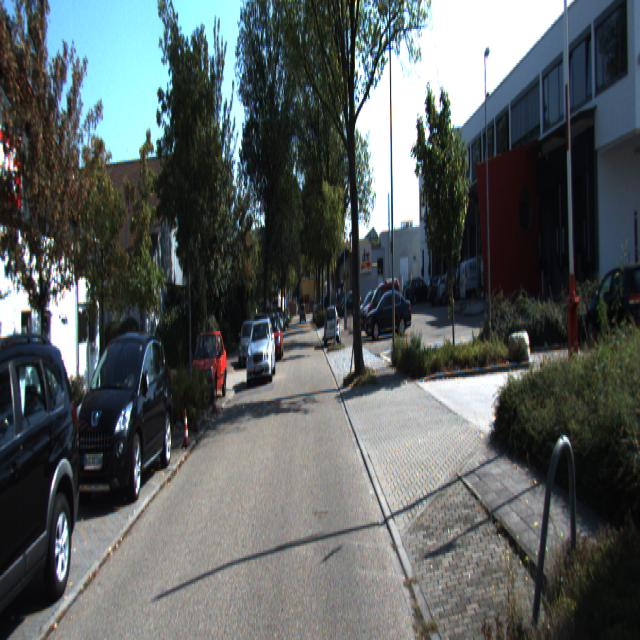Car: (0, 331, 89, 638), (70, 330, 175, 517), (185, 329, 228, 412), (362, 277, 404, 336), (459, 253, 504, 308), (365, 287, 413, 336), (244, 316, 277, 385), (324, 304, 340, 348)
